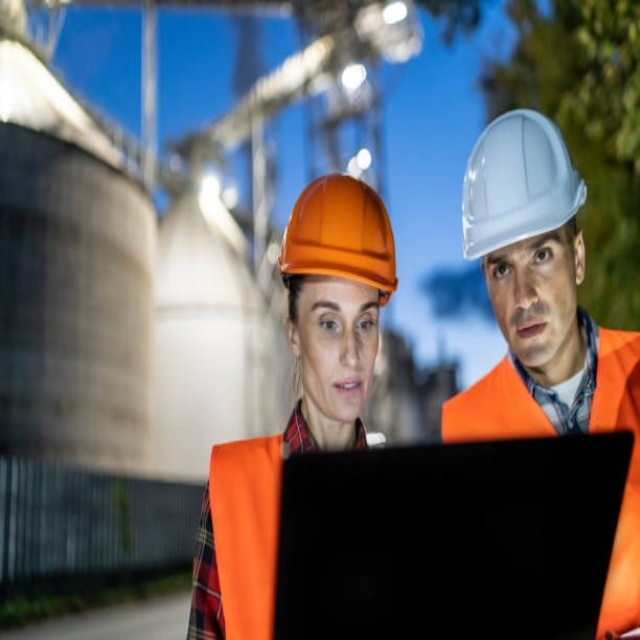Sin_gafas: (487, 237, 568, 293), (302, 293, 375, 340)
Sin_mascara: (505, 307, 555, 362), (326, 370, 363, 419)
